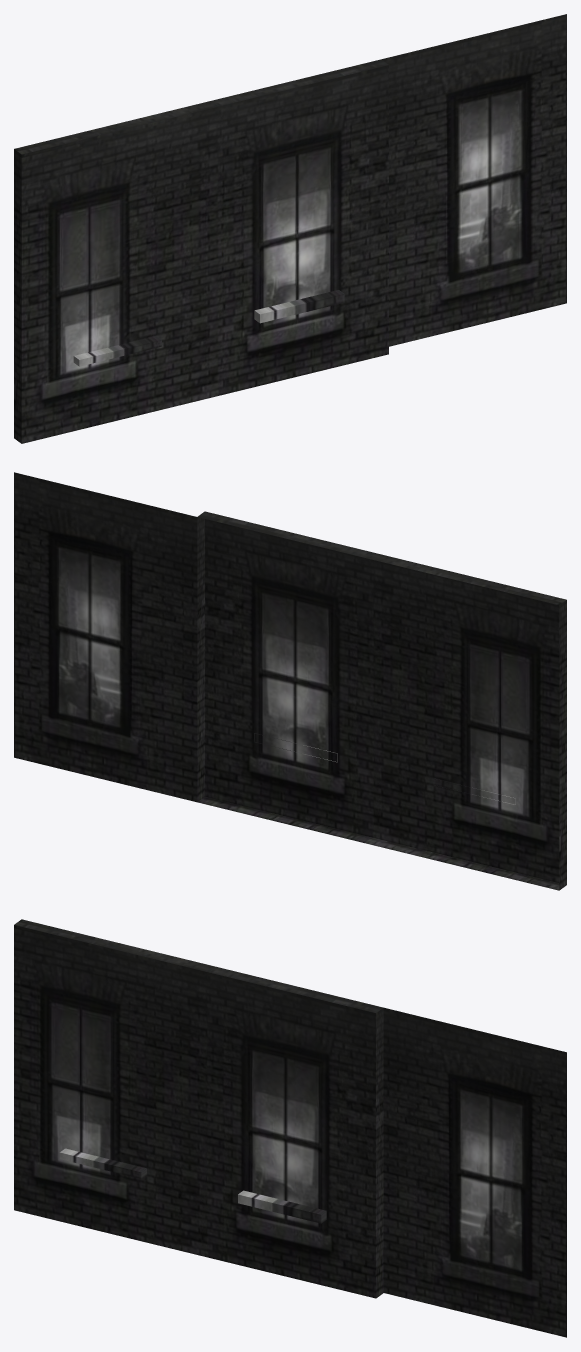
The model's file is floor.obj.
3 views of the same model, one above another, from view 1: azimuth 30°, elevation 25°; view 2: azimuth 150°, elevation 25°; view 3: azimuth 330°, elevation 25° (orthographic).
Parts seen in each view (by area): view 1: group; view 2: group; view 3: group.
Part boxes in pixels (x1,y1,x2,y2): group: (14, 14, 566, 443); group: (14, 472, 566, 890); group: (14, 919, 566, 1337).
Size of the model in its own units: 10 by 5 by 0.418.
